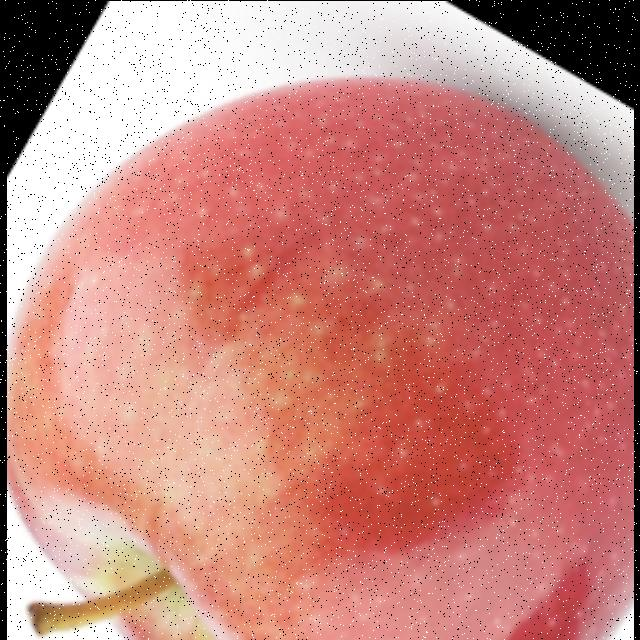Apel Segar: (6, 73, 633, 640)
